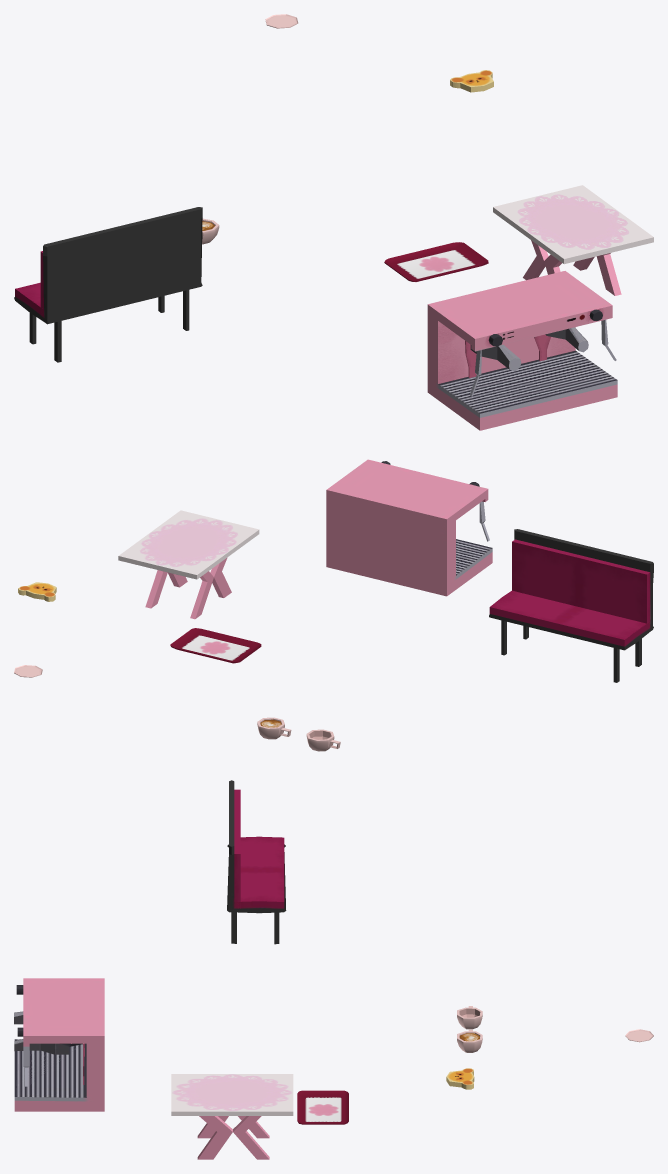
Rendered from Prov_1.fbx.
The picture shows the model from 3 angles, top to bottom: view 1: azimuth 30°, elevation 25°; view 2: azimuth 150°, elevation 25°; view 3: azimuth 270°, elevation 25°; orthographic projection. The views are drawn at different scales.
Parts seen in each view (by area): view 1: Cafetera, Sofa, MesaCuadrada, Bandeja, Pancakes; view 2: Cafetera, Sofa, MesaCuadrada, Bandeja, Taza, TazaRellena, Pancakes; view 3: Cafetera, MesaCuadrada, Sofa, Bandeja.
Boxes of the visible parts, x1,y1,x2,y2 form: Cafetera: (427, 271, 617, 430); Sofa: (14, 207, 202, 362); MesaCuadrada: (493, 185, 653, 295); Bandeja: (384, 242, 488, 281); Pancakes: (450, 70, 493, 92); Cafetera: (326, 459, 492, 596); Sofa: (489, 529, 653, 682); MesaCuadrada: (118, 510, 259, 619); Bandeja: (170, 628, 261, 663); Taza: (306, 729, 340, 751); TazaRellena: (257, 717, 291, 739); Pancakes: (18, 582, 56, 601); Cafetera: (14, 978, 104, 1111); MesaCuadrada: (171, 1074, 293, 1159); Sofa: (227, 780, 286, 944); Bandeja: (297, 1090, 348, 1124).
Size of the model in its own units: 28.11 by 7.79 by 30.98.
